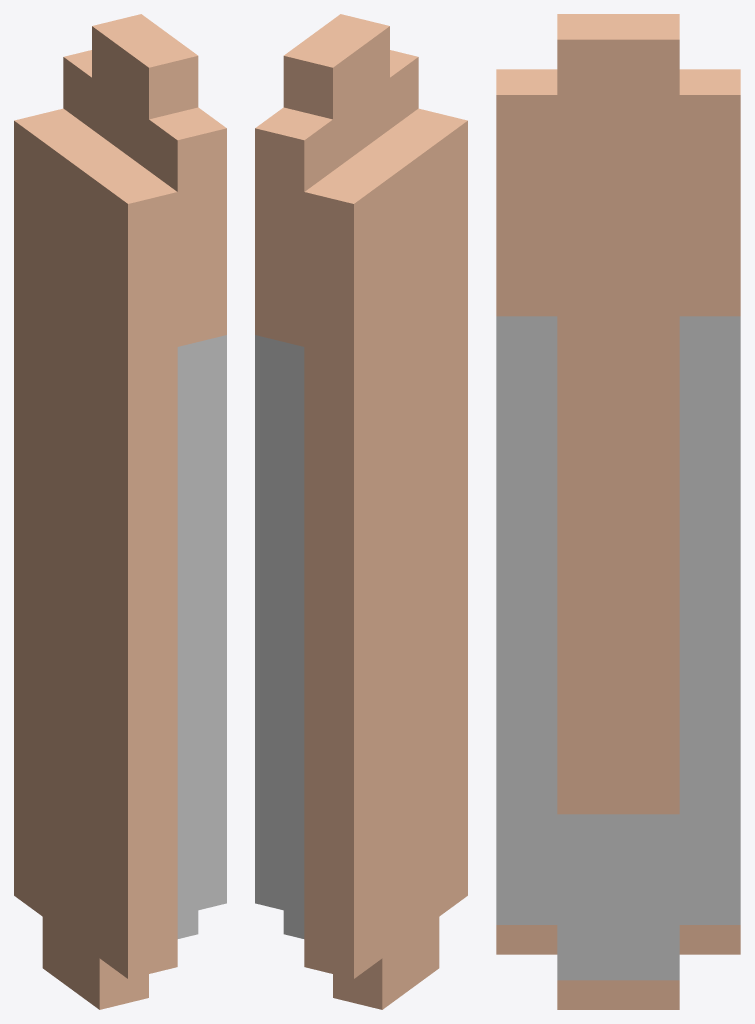
Rendered from penguin08_rightArm.obj.
3 views of the same model, side by side, from view 1: azimuth 30°, elevation 25°; view 2: azimuth 150°, elevation 25°; view 3: azimuth 270°, elevation 25° (orthographic). The views are drawn at different scales.
Bounding box in the file's own units: 0.2 × 1.8 × 0.4.
Materials: 1 (1 with a texture image).
